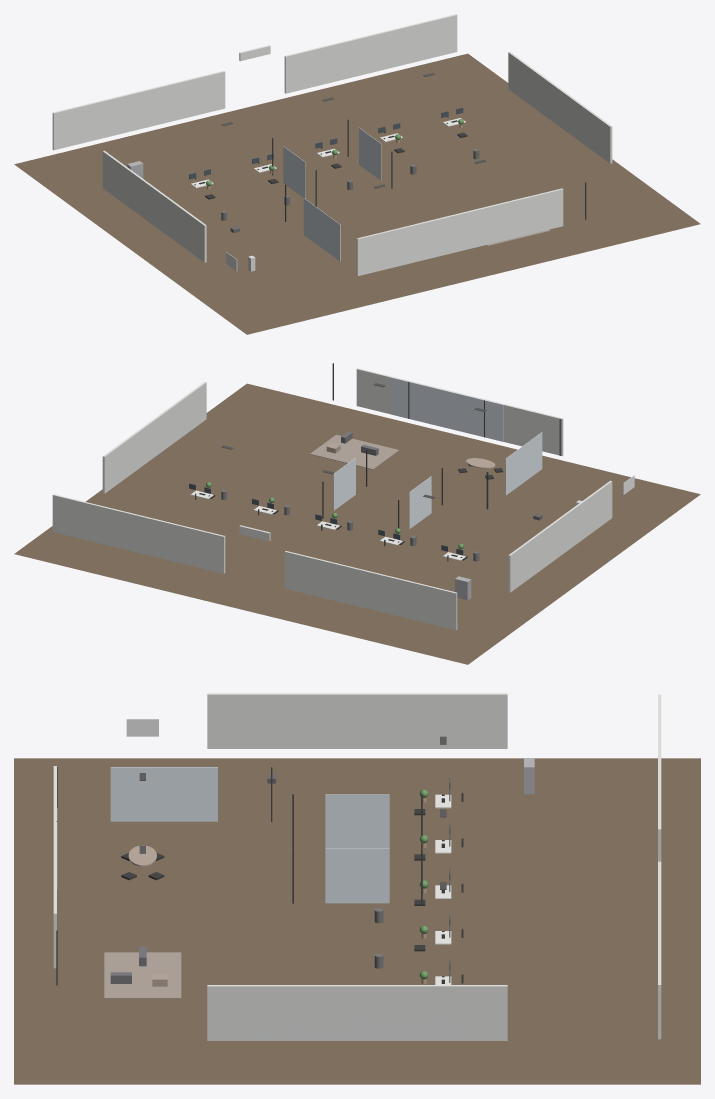
File: office_v23.glb
3 renders of one model, top to bottom at view 1: azimuth 30°, elevation 25°; view 2: azimuth 150°, elevation 25°; view 3: azimuth 270°, elevation 25°, orthographic. The views are drawn at different scales.
Visible parts, largest first — view 1: Plane, Cube, Cube.001, Cube.002, Cube.004, Cube.005, Cube.013, Cube.011, Cube.012; view 2: Plane, Cube.002, Cube.001, Cube.014, Cube.004, Cube.005, Cube, Cube.013, Cube.025, Cube.012, Cube.011; view 3: Plane, Cube.005, Cube.004, Cube.013, Cube.012, Cube.011, Cube.025, Cube.006, Cube, Cube.002.
Boxes of the visible parts, x1,y1,x2,y2 form: Plane: (14,53,700,334); Cube: (356,188,563,275); Cube.001: (52,71,225,150); Cube.002: (284,14,457,93); Cube.004: (102,150,206,262); Cube.005: (508,52,612,163); Cube.013: (303,198,340,261); Cube.011: (283,146,305,198); Cube.012: (359,127,381,180); Plane: (14,383,700,664); Cube.002: (52,494,225,573); Cube.001: (284,551,457,630); Cube.014: (390,377,503,441); Cube.004: (508,480,612,592); Cube.005: (102,382,206,493); Cube: (356,368,563,455); Cube.013: (505,432,542,495); Cube.025: (310,434,399,469); Cube.012: (333,457,355,510); Cube.011: (409,476,431,528); Plane: (14,758,700,1084); Cube.005: (207,985,507,1040); Cube.004: (207,693,507,748); Cube.013: (110,767,217,821); Cube.012: (325,848,389,903); Cube.011: (325,794,389,848); Cube.025: (104,952,181,998); Cube.006: (250,992,464,1037); Cube: (53,766,56,968); Cube.002: (658,861,661,1039).
Bounding box in the file's own units: 18 × 2.79 × 16.
